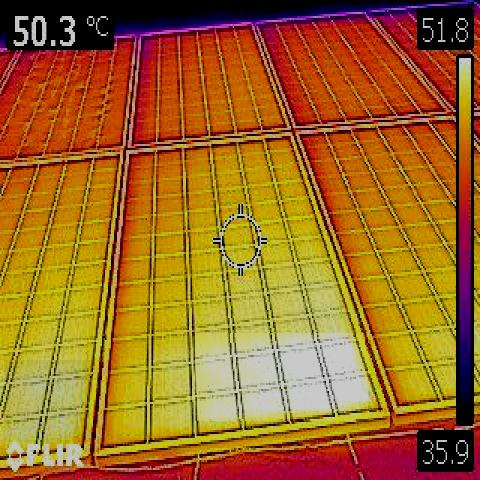fault: (195, 334, 370, 422), (4, 360, 90, 442)
